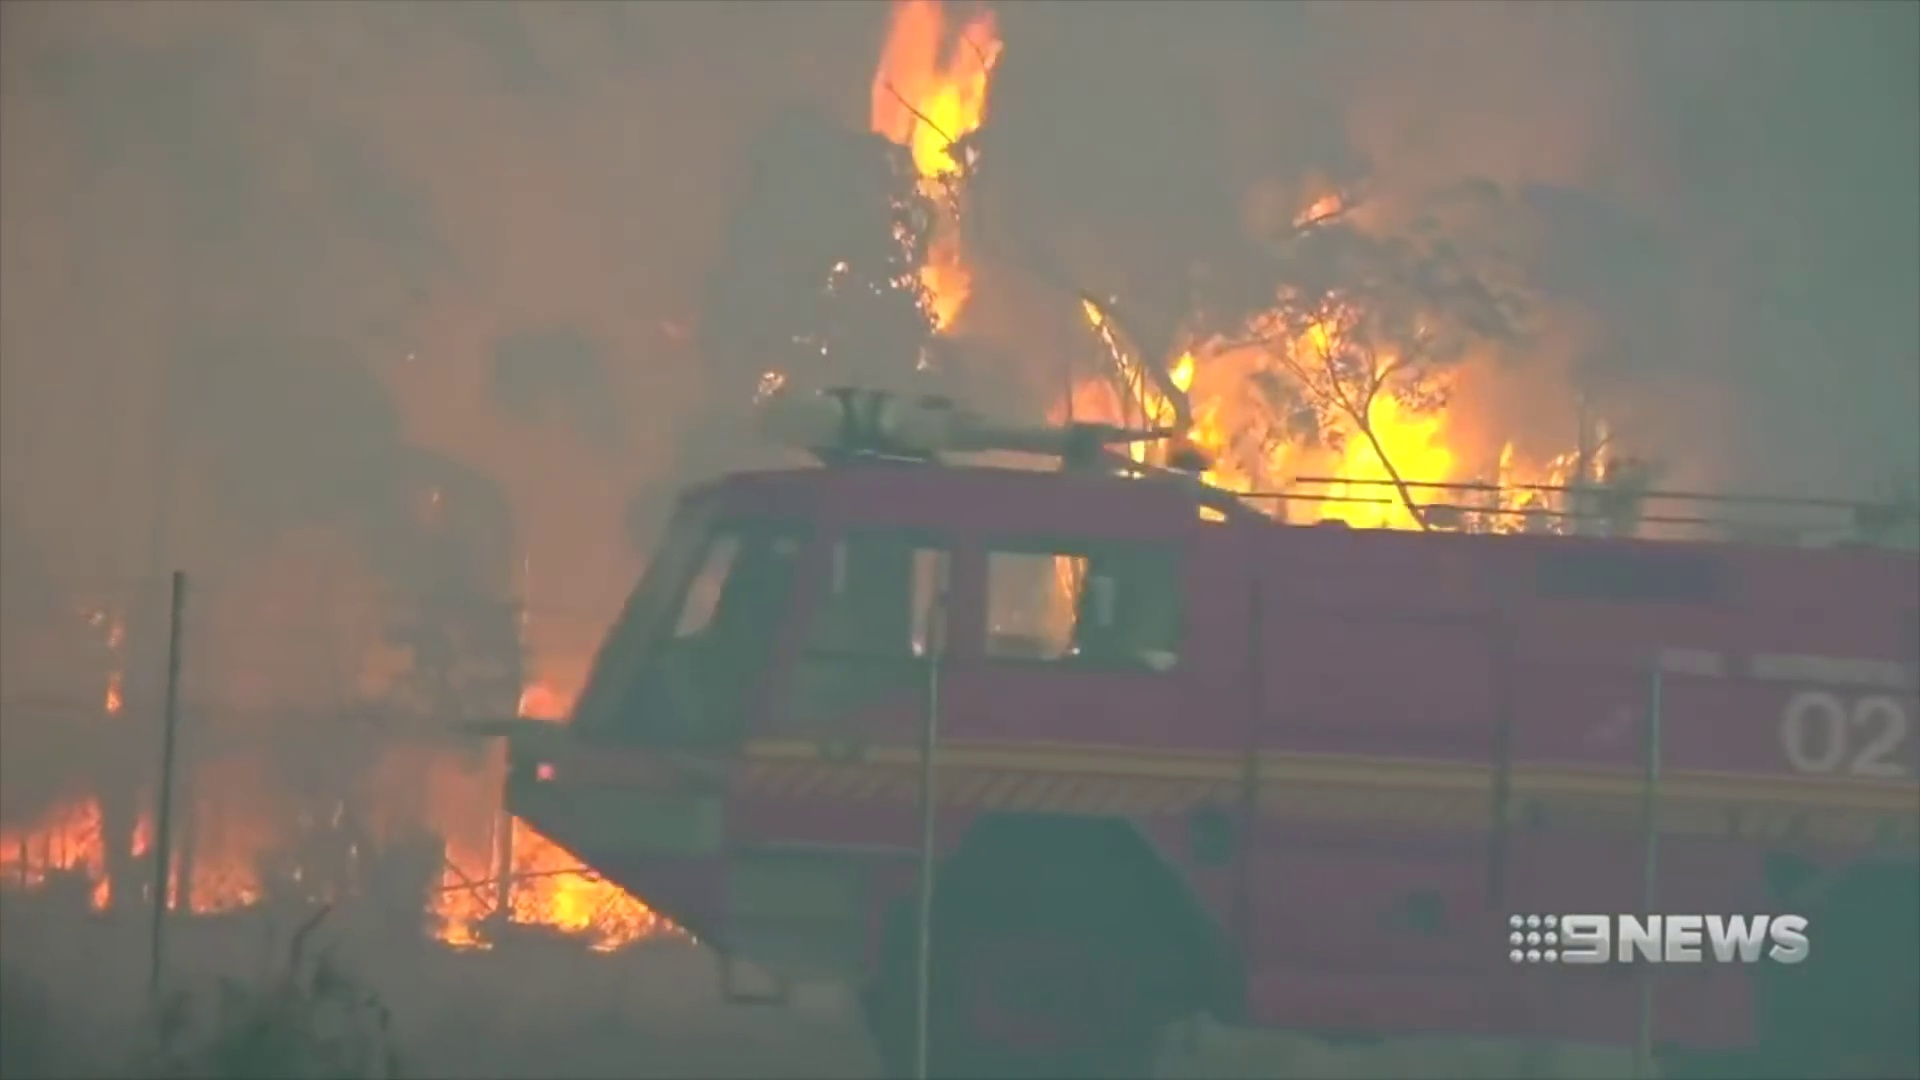fire: (880, 11, 994, 309), (1338, 409, 1449, 531), (553, 887, 578, 930), (1054, 555, 1077, 592), (1168, 356, 1195, 389), (1547, 454, 1576, 472)
